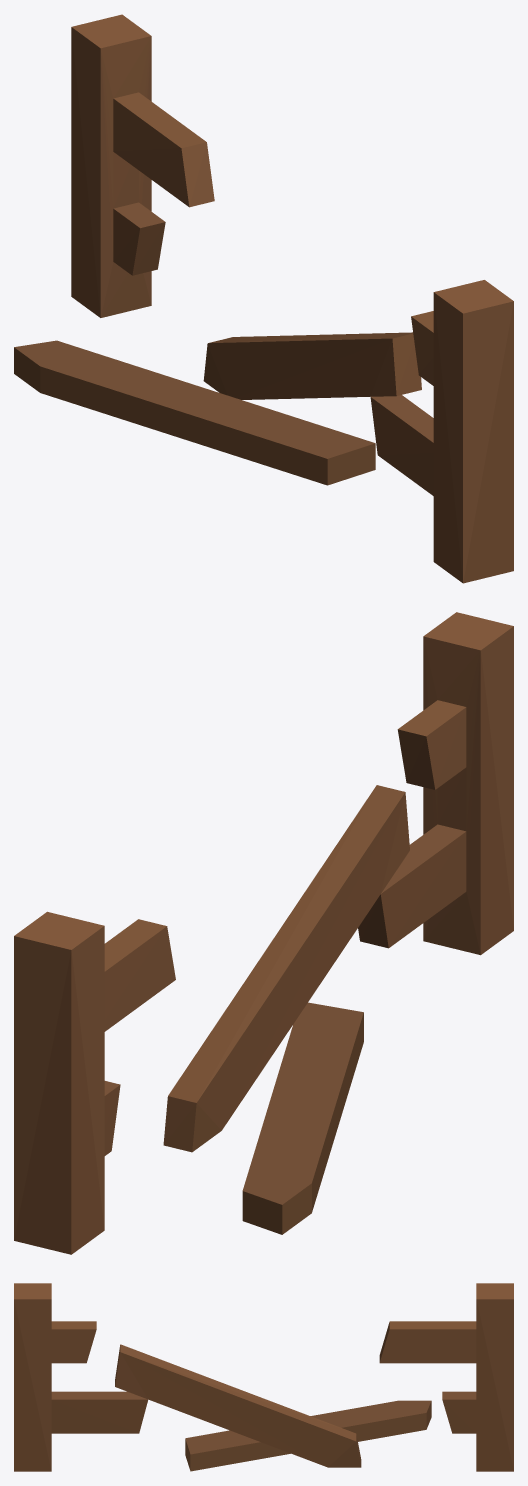
The model's file is kenney_town_fence_broken.glb.
The picture shows the model from 3 angles, top to bottom: view 1: azimuth 30°, elevation 25°; view 2: azimuth 150°, elevation 25°; view 3: azimuth 270°, elevation 25°; orthographic projection. The views are drawn at different scales.
Parts seen in each view (by area): view 1: wood; view 2: wood; view 3: wood.
Part boxes in pixels (x1=…): wood: x1=14, y1=14, x2=513, y2=583; wood: x1=14, y1=612, x2=513, y2=1254; wood: x1=14, y1=1283, x2=513, y2=1471.
Bounding box in the file's own units: 0.2547 × 0.38 × 1.
